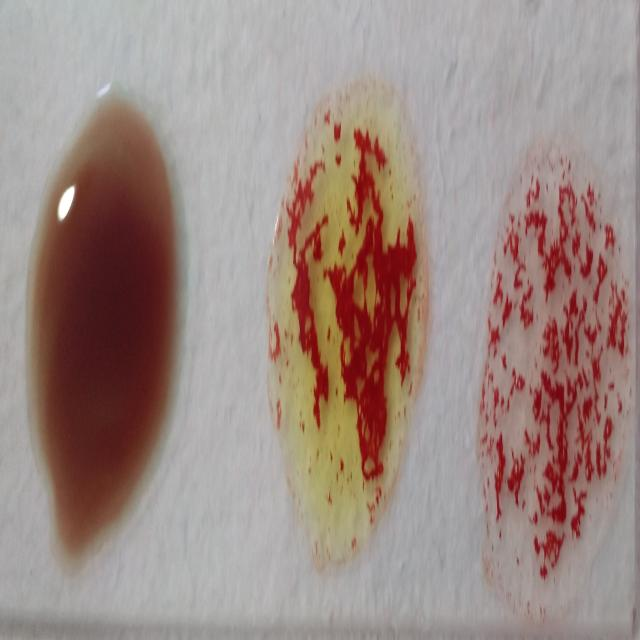B: (269, 77, 429, 570)
D: (480, 138, 630, 620)
